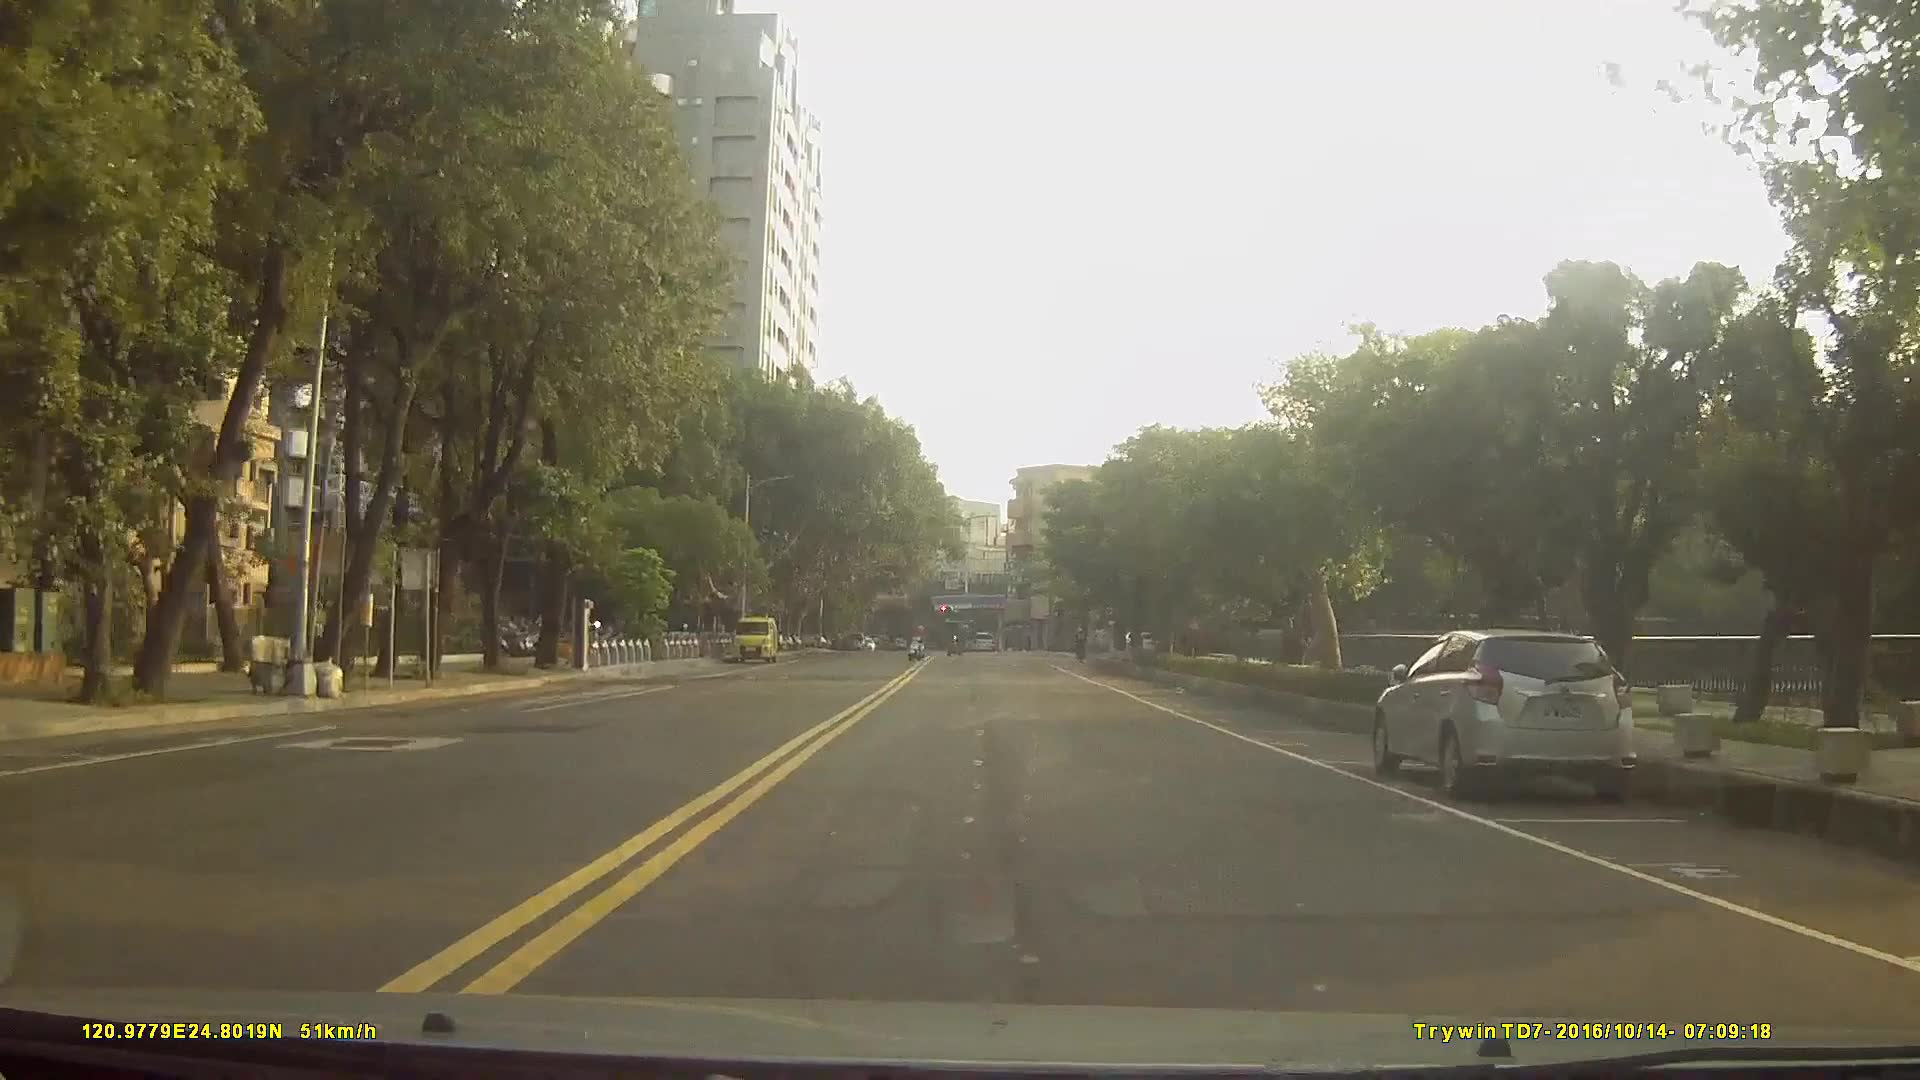rider: (905, 624, 929, 662), (946, 624, 970, 658)
vehicle: (1371, 624, 1634, 805), (971, 628, 998, 653)
